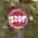stop: (7, 7, 28, 29)
